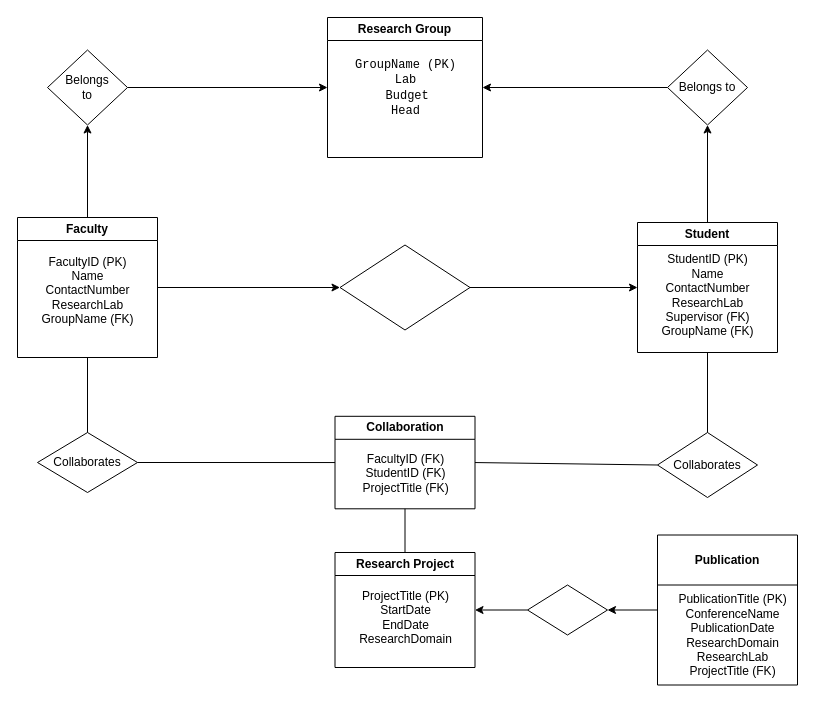
The diagram is 815 pixels wide and 703 high, and some of its shapes have lost their labels. Here are the shapes that lost their labels. From the top down, the centre of each, then its label:
At pixel 404 287: "Supervises".
At pixel 567 609: "publishes".
